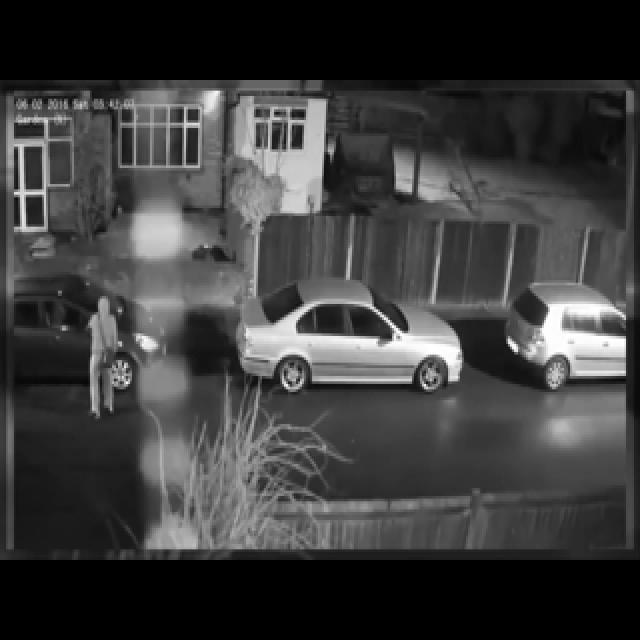vandalism: (43, 232, 264, 524)
